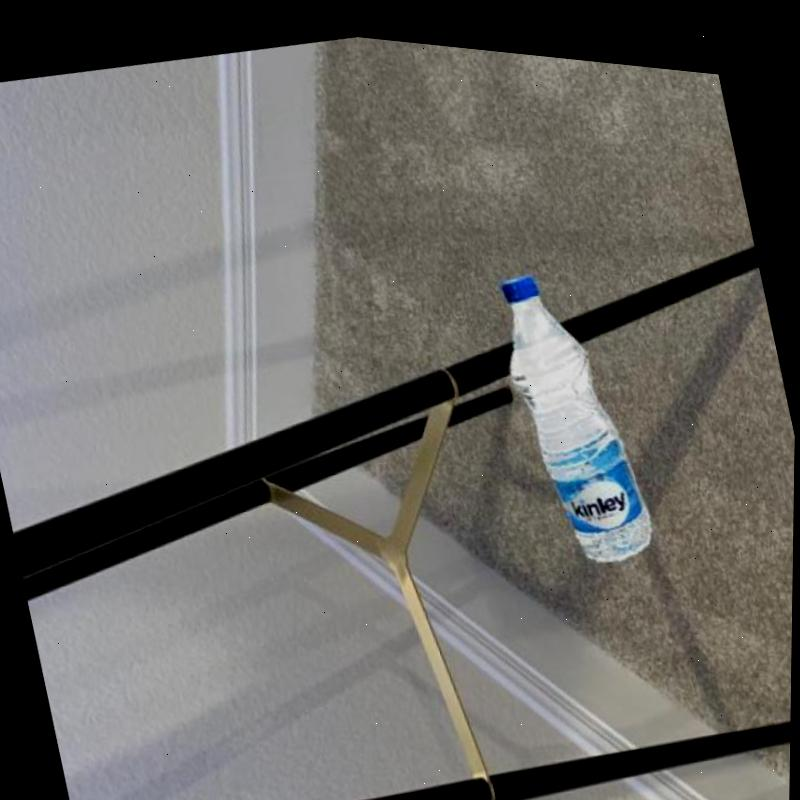botella: (484, 242, 662, 565)
